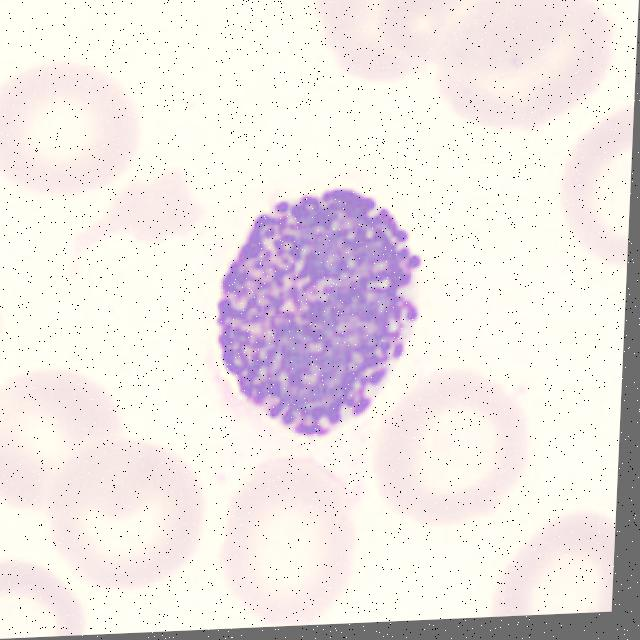basophil: (199, 169, 426, 447)
rbc: (51, 427, 212, 603), (373, 358, 553, 510), (218, 455, 366, 628), (436, 0, 622, 134), (0, 55, 163, 204), (0, 353, 136, 518), (480, 490, 617, 617), (289, 0, 442, 100), (376, 0, 572, 74), (560, 104, 634, 284), (0, 526, 104, 640), (72, 174, 210, 257), (162, 623, 226, 632), (0, 290, 6, 368)
